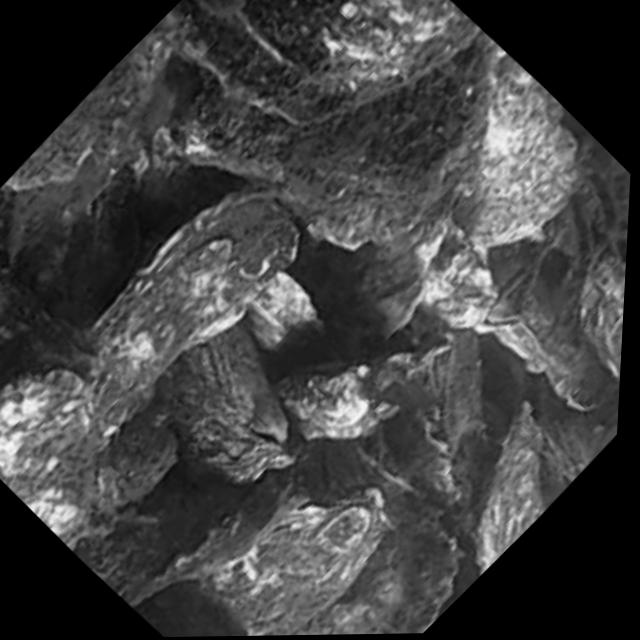Oyster-Closed: (487, 242, 607, 419), (474, 405, 543, 573), (269, 359, 386, 438), (579, 238, 626, 390)
Oyster-Indeterminate: (77, 177, 296, 428), (271, 46, 477, 238), (174, 0, 483, 119), (199, 489, 379, 636), (446, 45, 570, 246), (287, 511, 451, 635), (0, 370, 100, 536)
Oyster-Open: (156, 328, 293, 475)
